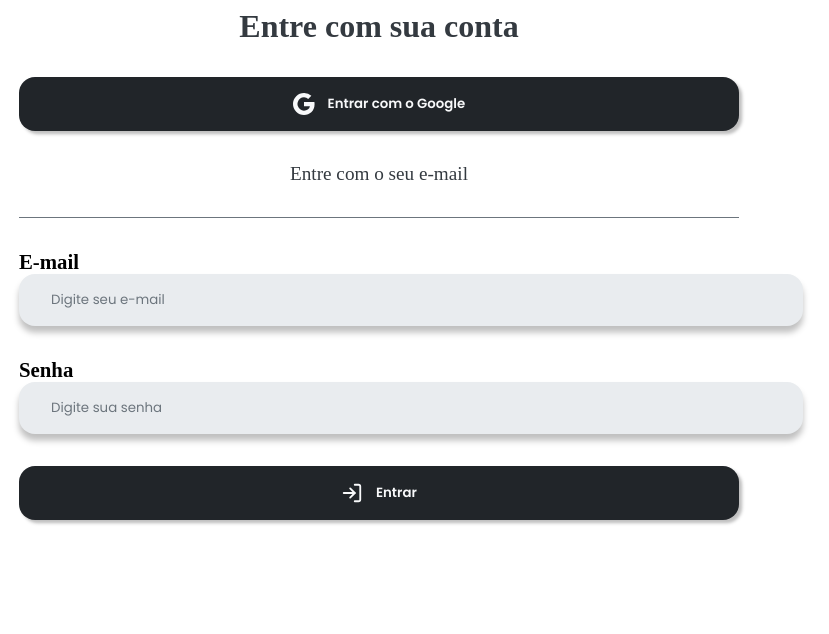
Test case: Login › should show erros when trying to submit without filling all required fields
The image size is (829, 634).
Click the button "Entrar": {"x": 379, "y": 493} [19,466,739,520]
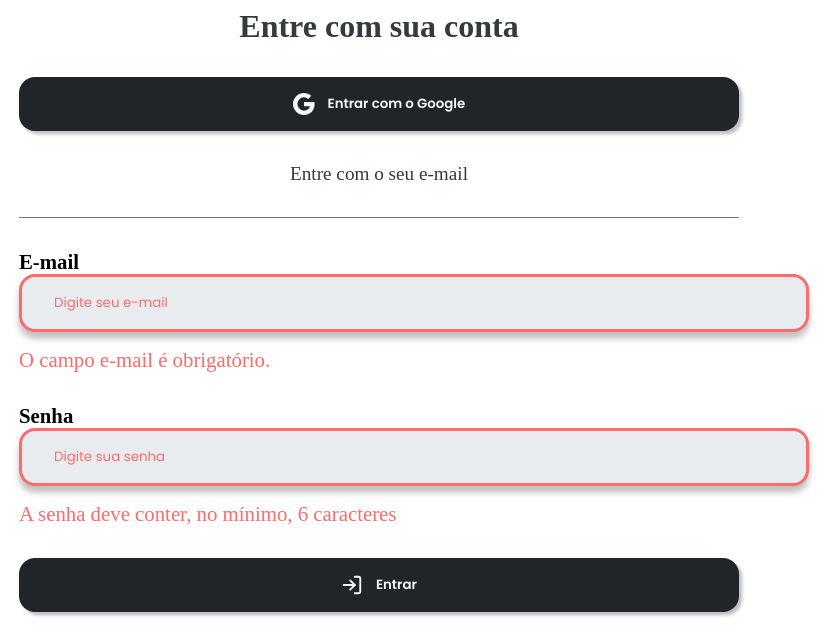
Result: the text "O campo e-mail é obrigatório." is shown at [19,348,270,371]
Result: the text "A senha deve conter, no mínimo, 6 caracteres" is shown at [19,502,396,525]
